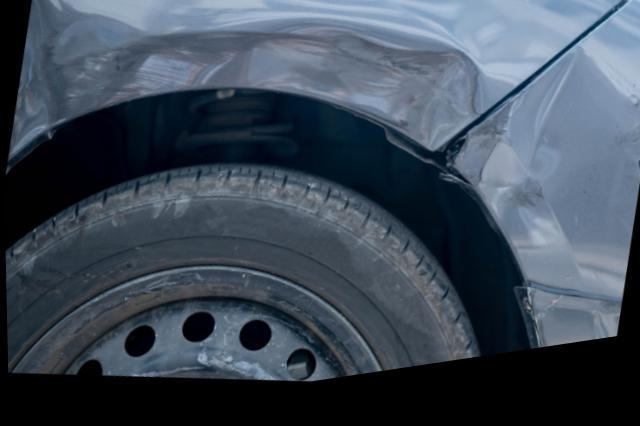dent: (7, 30, 484, 162), (442, 66, 575, 235)
